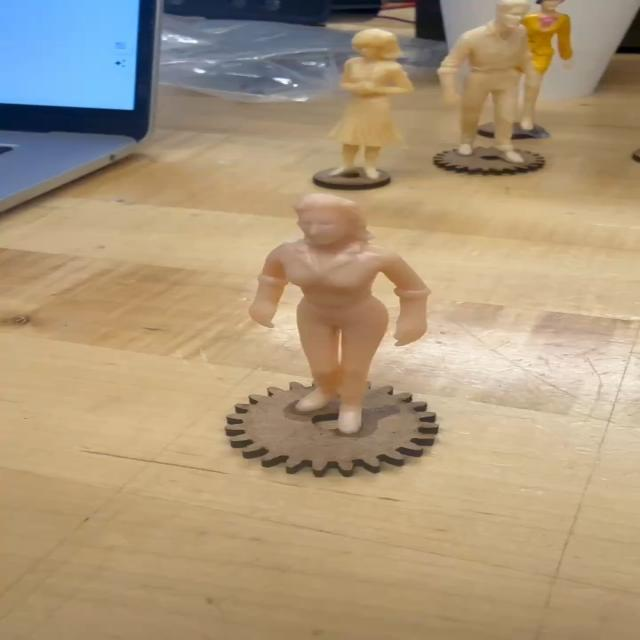Unauthorized: (222, 194, 463, 439)
